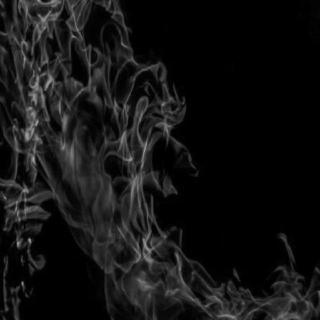Fire: (2, 2, 195, 314), (196, 231, 320, 317)
